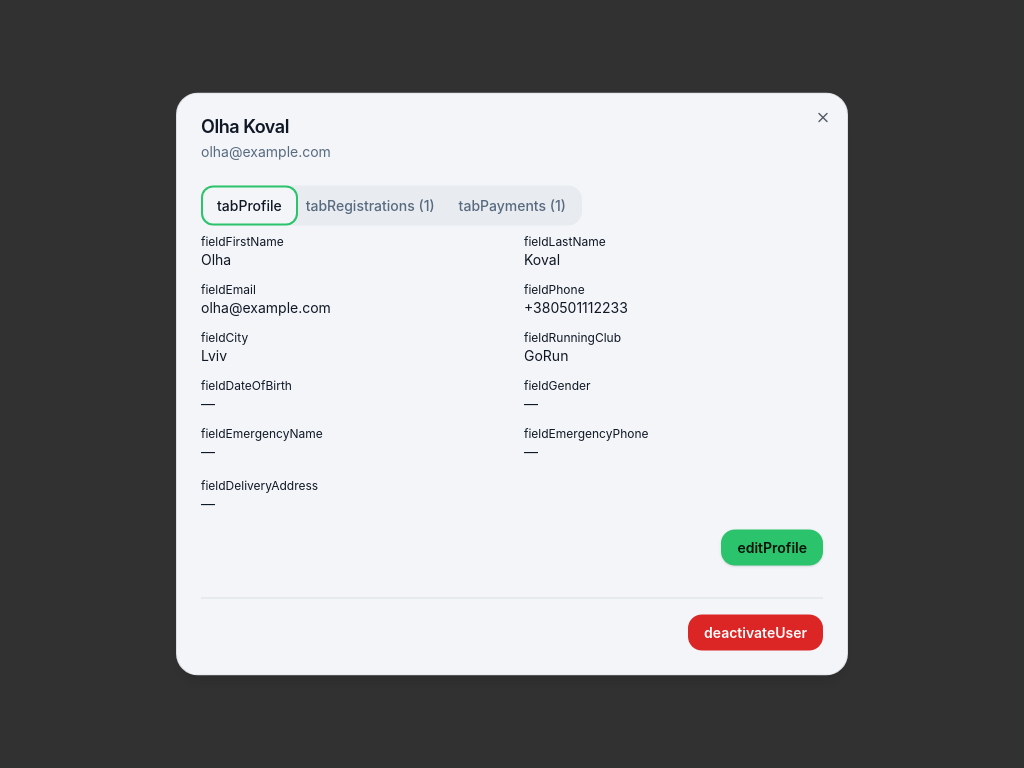
UserDetailModal › renders the profile, registrations and payments
This screenshot has width=1024, height=768.
Expected: the heading "Olha Koval" is shown, [201, 116, 289, 136]
Expected: the text "GoRun" is shown, [524, 346, 568, 364]
# Registrations tab
Click the tab "tabRegistrations (1)" at [370, 206], box [294, 190, 447, 222]
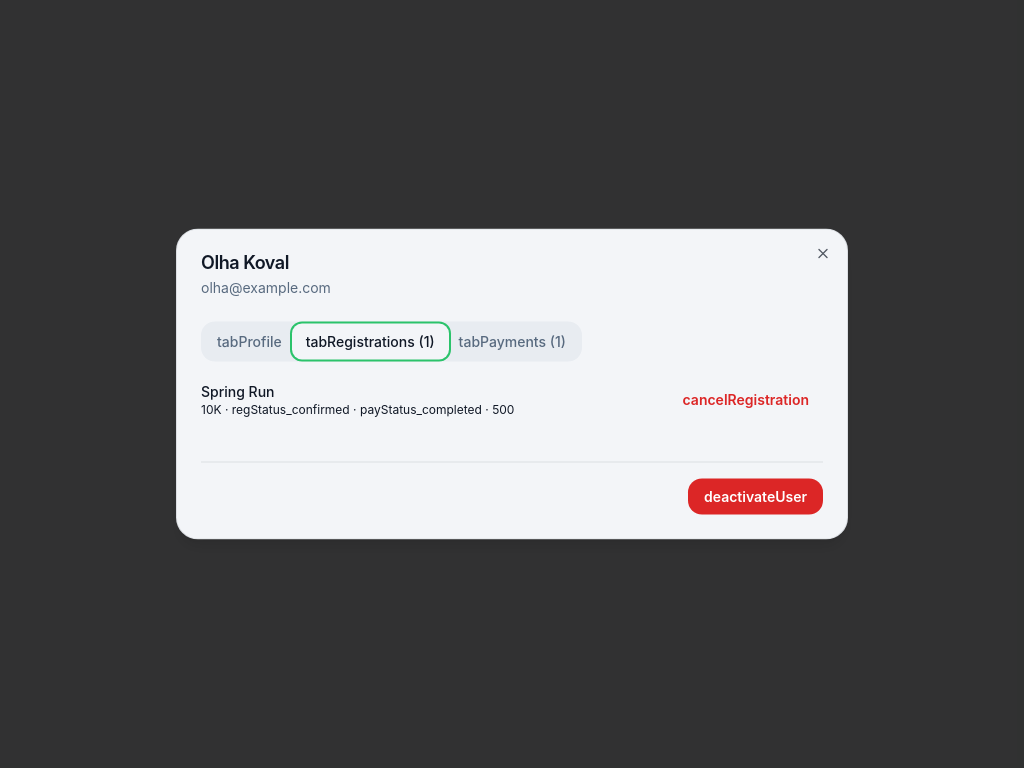
Now the text "Spring Run" is shown, box [201, 382, 274, 400]
# Payments tab
Click the tab "tabPayments (1)" at [512, 342], box [447, 326, 578, 358]
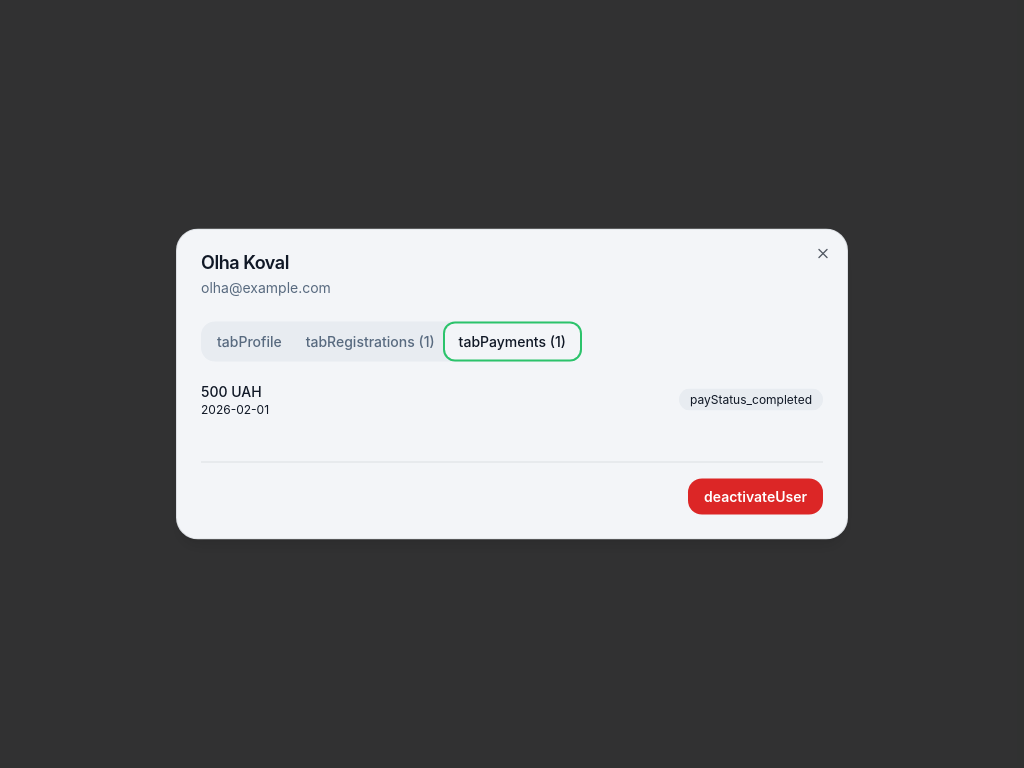
Now the text "500 UAH" is shown, box [201, 382, 269, 402]
